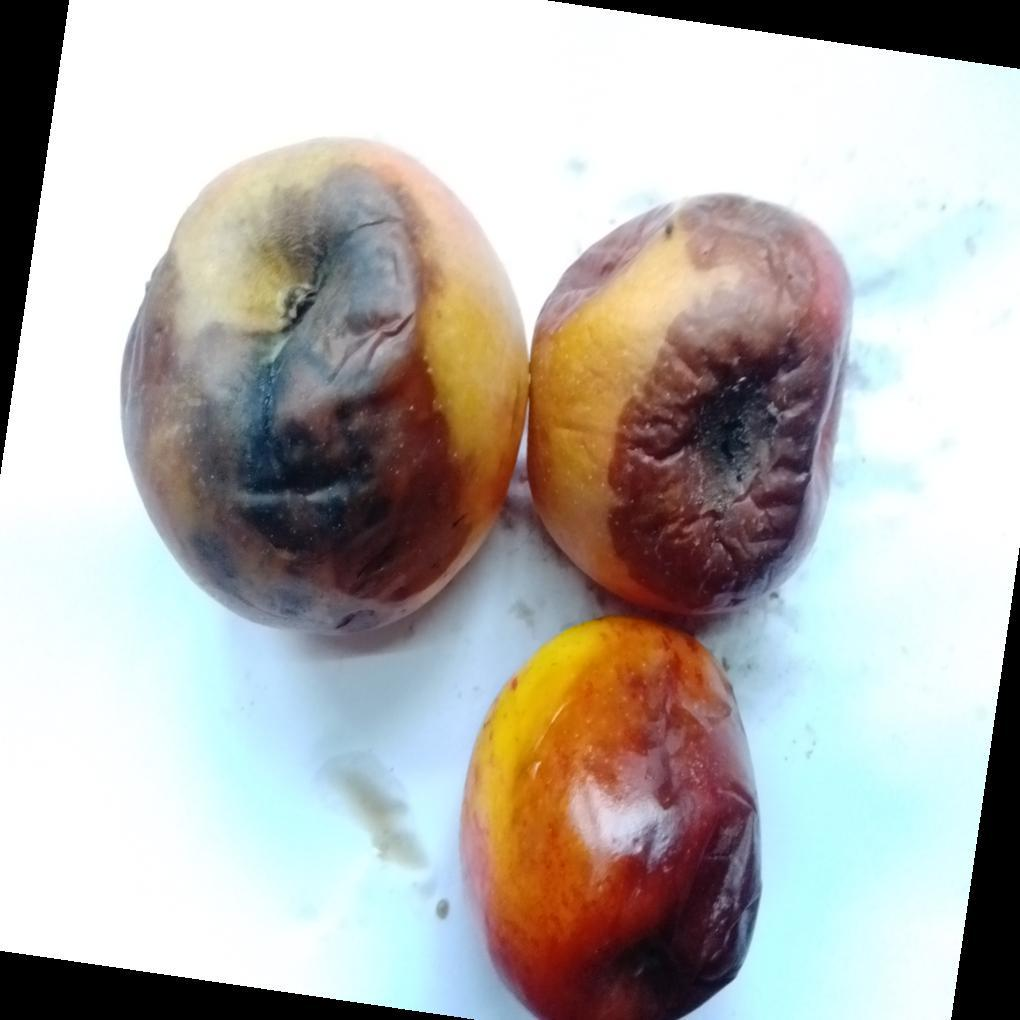FreshOrange: (119, 138, 855, 1020)
